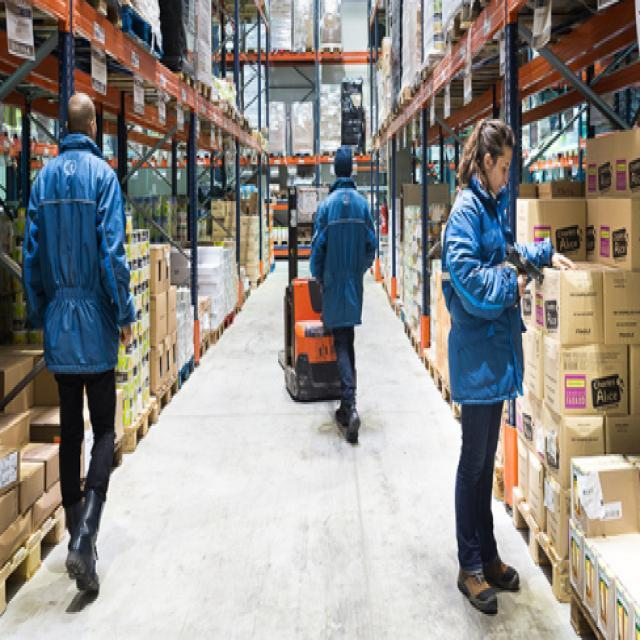shoes: (55, 486, 115, 608), (452, 535, 524, 623), (333, 388, 370, 455)
